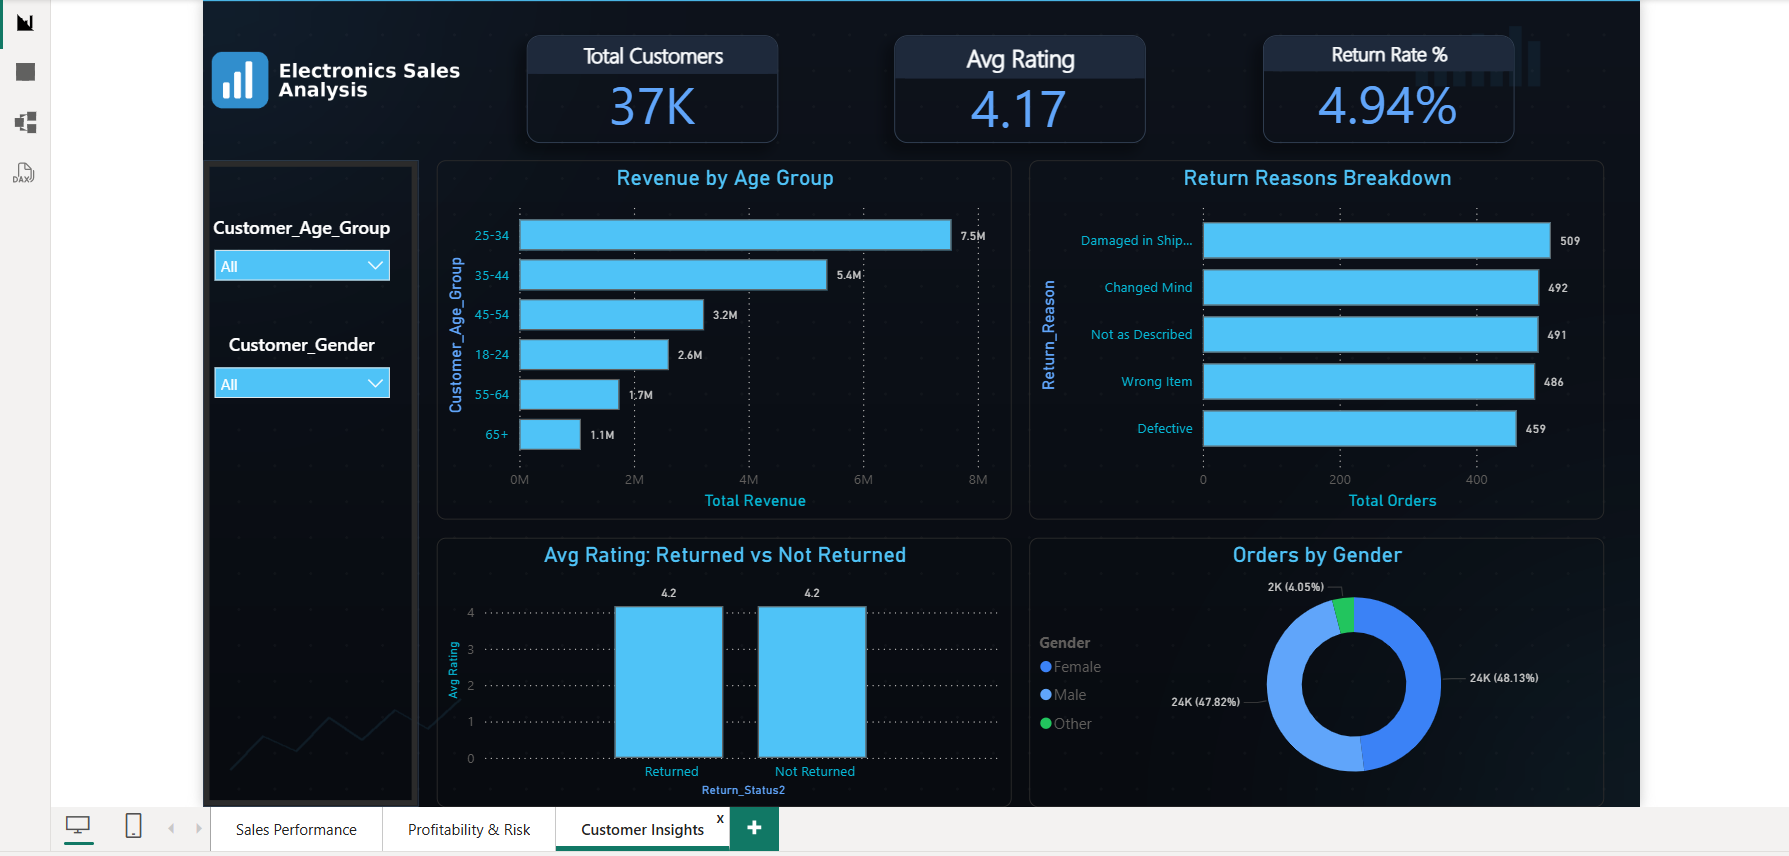

This screenshot's page, from the dashboard's own definition file:
{"tool":"powerbi","page":{"name":"Customer Insights","canvas":[1280,720],"ordinal":2},"visuals":[{"type":"card","title":"Return Rate %","fields":{"Values":["final_dashboard_data.Return Rate %"]},"box":[944,32,224,96],"z":0},{"type":"card","title":"Total Customers","fields":{"Values":["final_dashboard_data.Total Customers"]},"box":[288,32,224,96],"z":1000},{"type":"card","title":"Avg Rating","fields":{"Values":["final_dashboard_data.Avg Rating"]},"box":[616,32,224,96],"z":2000},{"type":"clusteredBarChart","title":"Revenue by Age Group","fields":{"Category":["final_dashboard_data.Customer_Age_Group"],"Y":["final_dashboard_data.Total Revenue"]},"box":[208,144,512,320],"z":3000},{"type":"donutChart","title":"Orders by Gender","fields":{"Category":["final_dashboard_data.Customer_Gender"],"Y":["final_dashboard_data.Total Orders"]},"box":[736,480,512,240],"z":4000},{"type":"clusteredBarChart","title":"Return Reasons Breakdown","fields":{"Category":["final_dashboard_data.Return_Reason"],"Y":["final_dashboard_data.Total Orders"]},"box":[736,144,512,320],"z":5000},{"type":"shape","box":[0,144,192,576],"z":6000},{"type":"slicer","title":"Customer_Age_Group","fields":{"Values":["final_dashboard_data.Customer_Age_Group"]},"box":[0,192,176,80],"z":7000},{"type":"slicer","title":"Customer_Gender","fields":{"Values":["final_dashboard_data.Customer_Gender"]},"box":[0,296.5,176,79],"z":8000},{"type":"clusteredColumnChart","title":"Avg Rating: Returned vs Not Returned","fields":{"Y":["final_dashboard_data.Avg Rating"],"Category":["final_dashboard_data.Return_Status2"]},"box":[208,480,512,240],"z":9000},{"type":"image","box":[0,0,240,144],"z":10000}]}

Visuals, with their boxes on the page's 1280x720 design canvas (x1, y1, x2, y2). These are canvas units, not pixel positions in the 1789x856 screenshot, which may show the page scaled, cropped or inside an application window:
"Return Rate %" card: region(944, 32, 1168, 128)
"Total Customers" card: region(288, 32, 512, 128)
"Avg Rating" card: region(616, 32, 840, 128)
"Revenue by Age Group" clusteredBarChart: region(208, 144, 720, 464)
"Orders by Gender" donutChart: region(736, 480, 1248, 720)
"Return Reasons Breakdown" clusteredBarChart: region(736, 144, 1248, 464)
shape: region(0, 144, 192, 720)
"Customer_Age_Group" slicer: region(0, 192, 176, 272)
"Customer_Gender" slicer: region(0, 296, 176, 376)
"Avg Rating: Returned vs Not Returned" clusteredColumnChart: region(208, 480, 720, 720)
image: region(0, 0, 240, 144)
